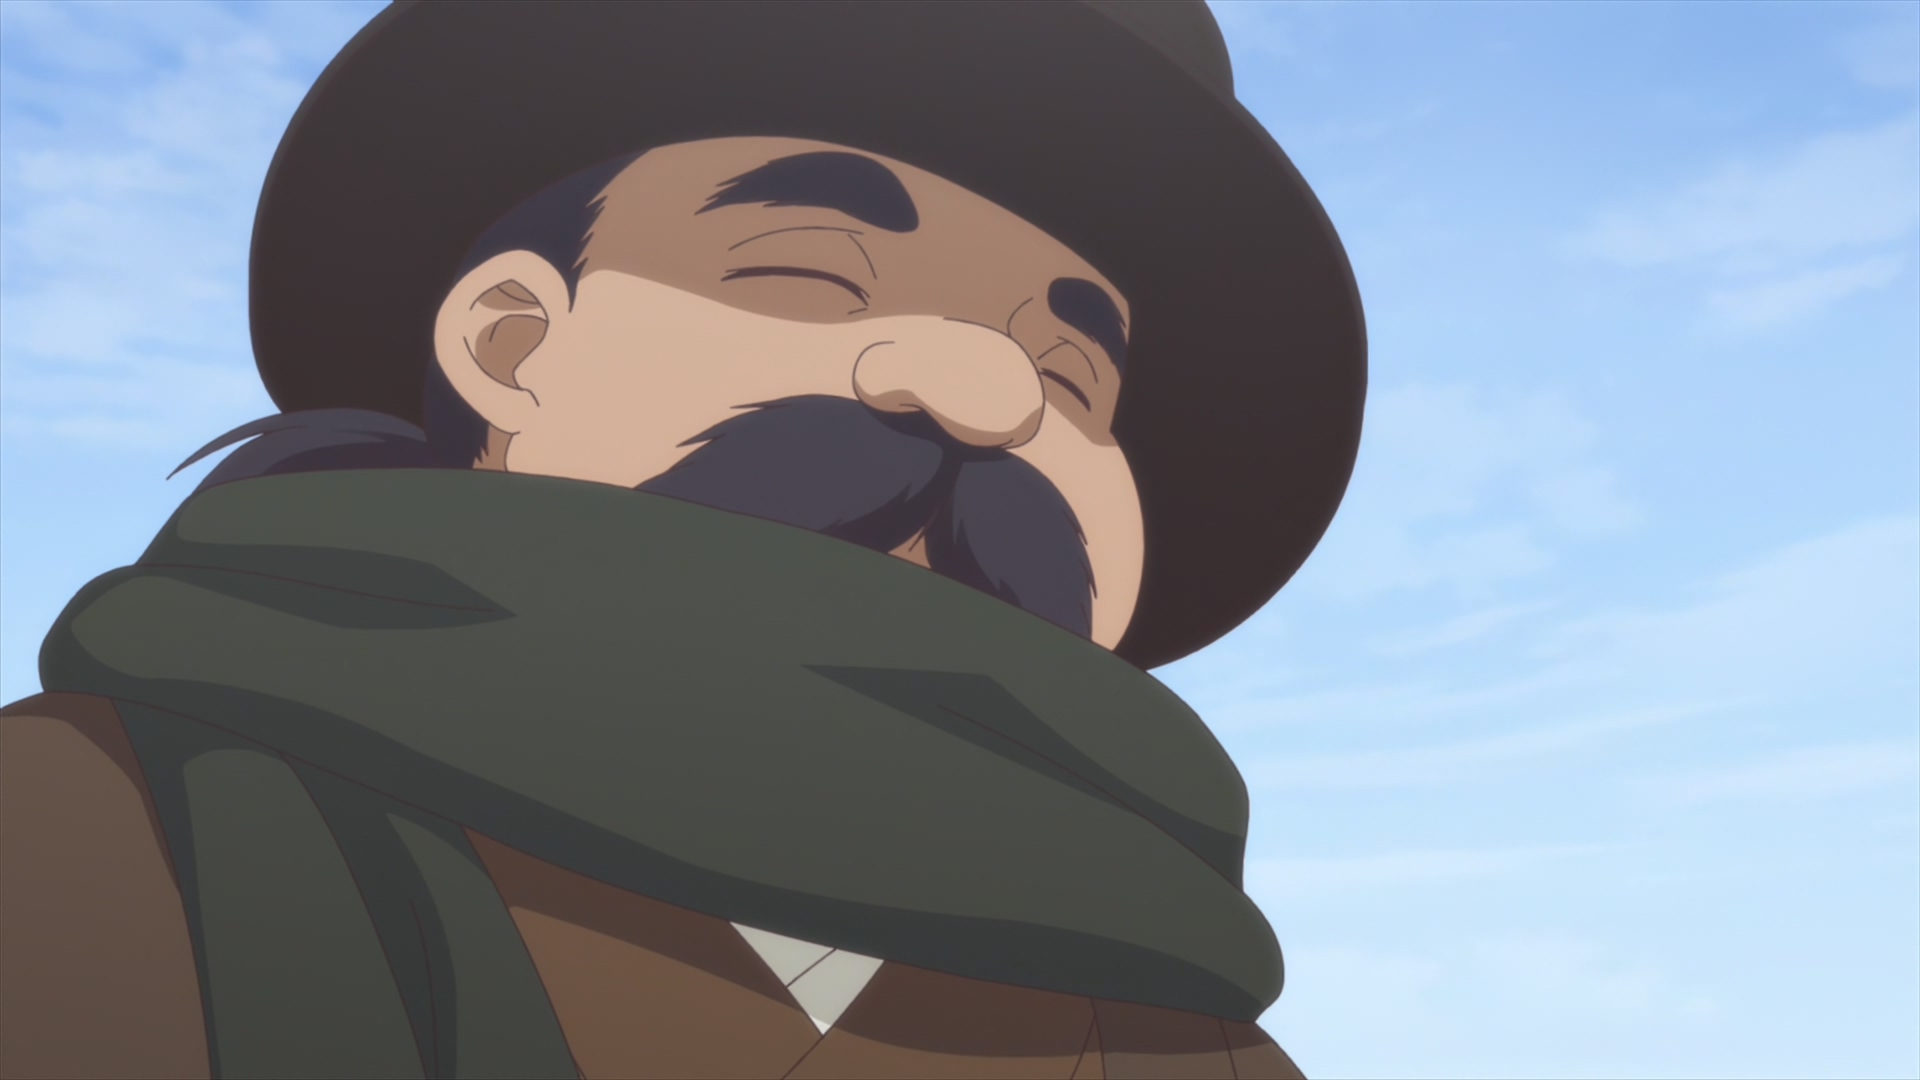其他: (1, 1, 1367, 1080)
